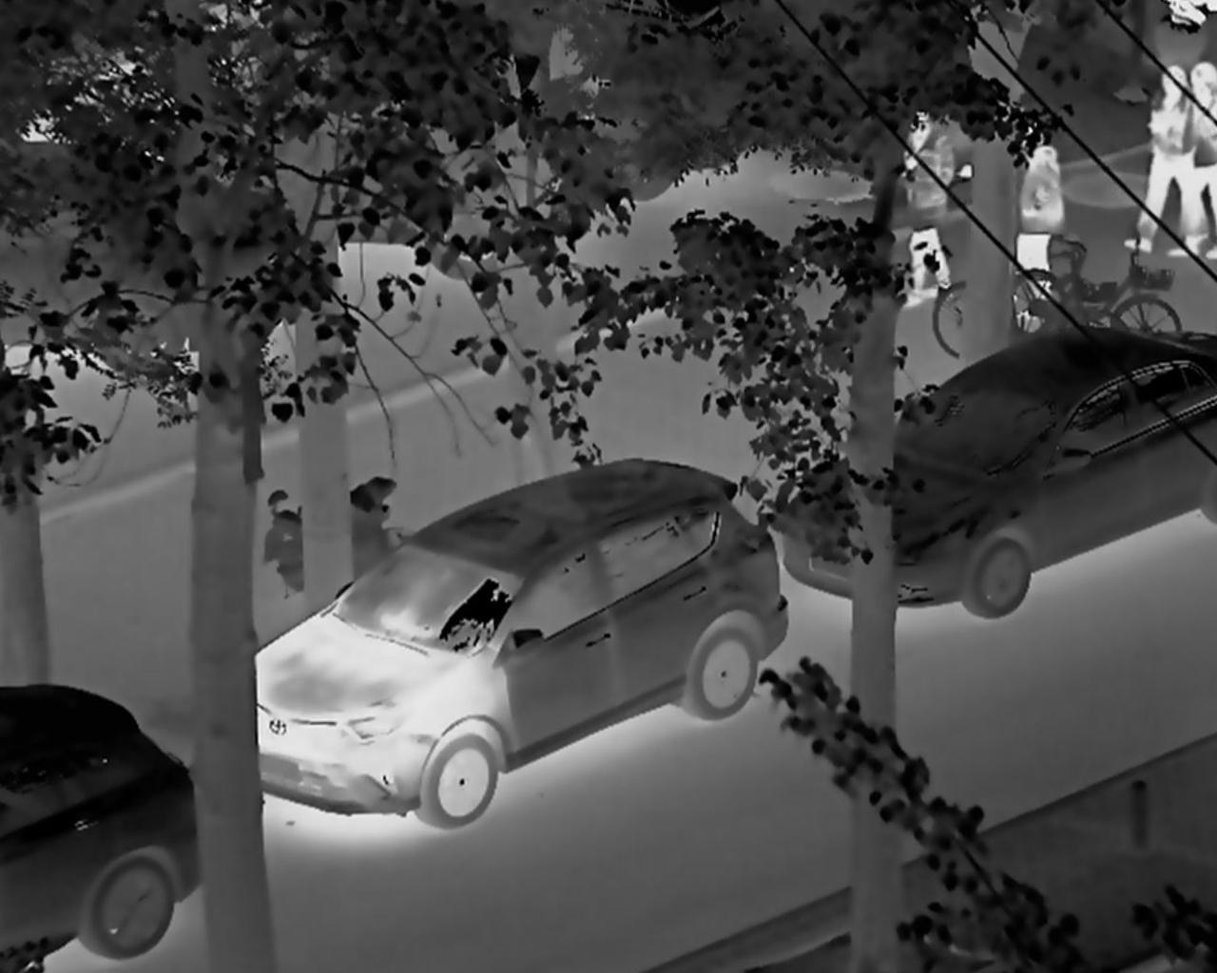person: (879, 108, 968, 322), (1011, 111, 1077, 328), (1169, 52, 1217, 263), (1142, 62, 1188, 260)
